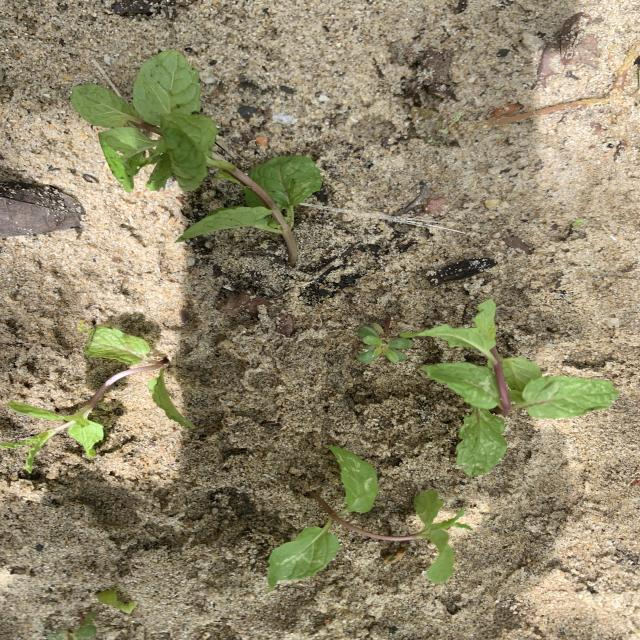crop: (70, 50, 319, 264), (410, 301, 617, 475), (0, 326, 195, 473), (268, 448, 462, 587)
weed: (358, 319, 414, 363), (47, 612, 95, 639)
